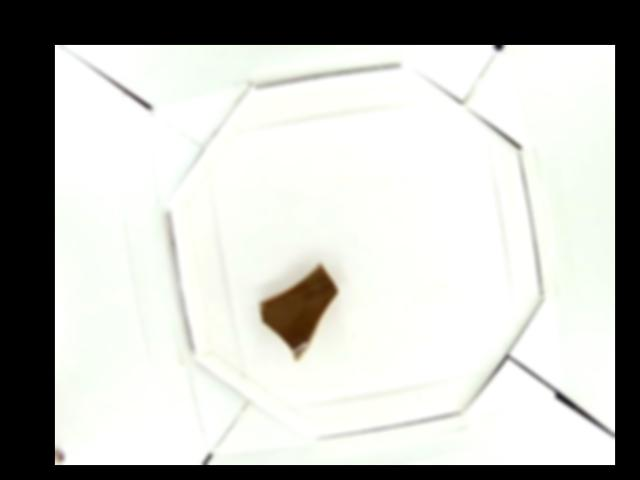China: (257, 257, 340, 360)
